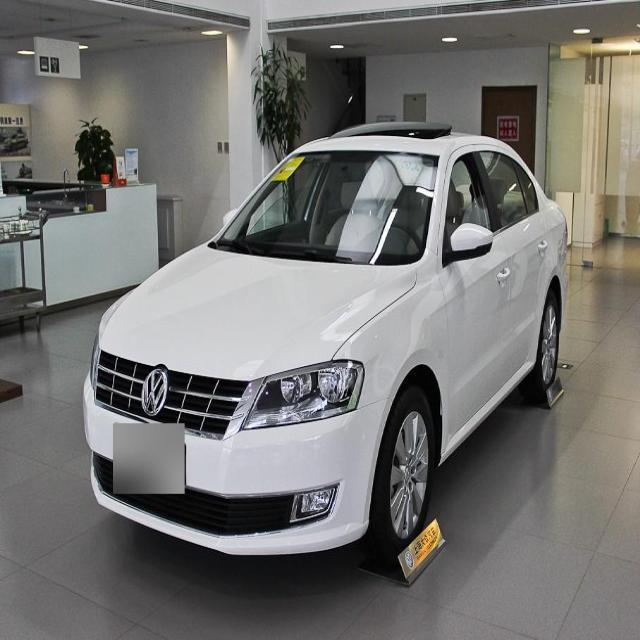door: (478, 154, 542, 362)
front_bumper: (82, 373, 392, 559)
front_glass: (218, 151, 440, 266)
front_left_side_door: (436, 145, 515, 462)
front_left_side_light: (242, 357, 366, 432)
front_left_side_mirror: (446, 223, 494, 260)
wheel: (369, 386, 432, 574), (528, 289, 562, 401)
